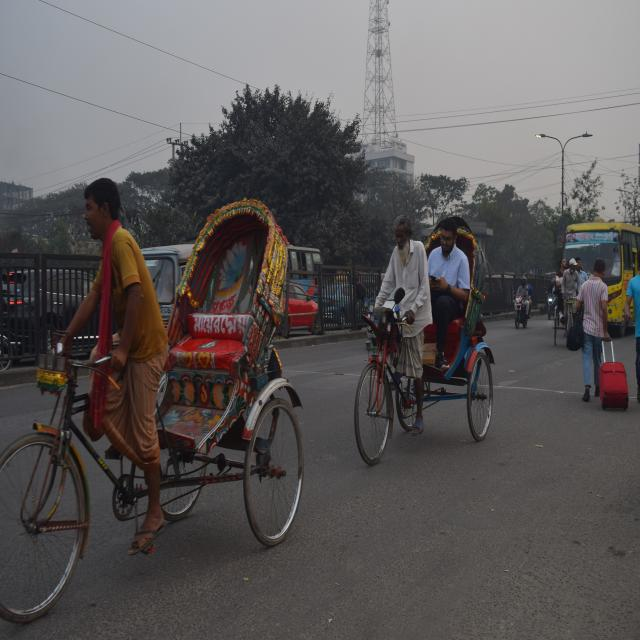bus: (554, 209, 640, 358), (286, 237, 336, 284)
car: (275, 274, 330, 342)
motorbike: (510, 284, 539, 340)
